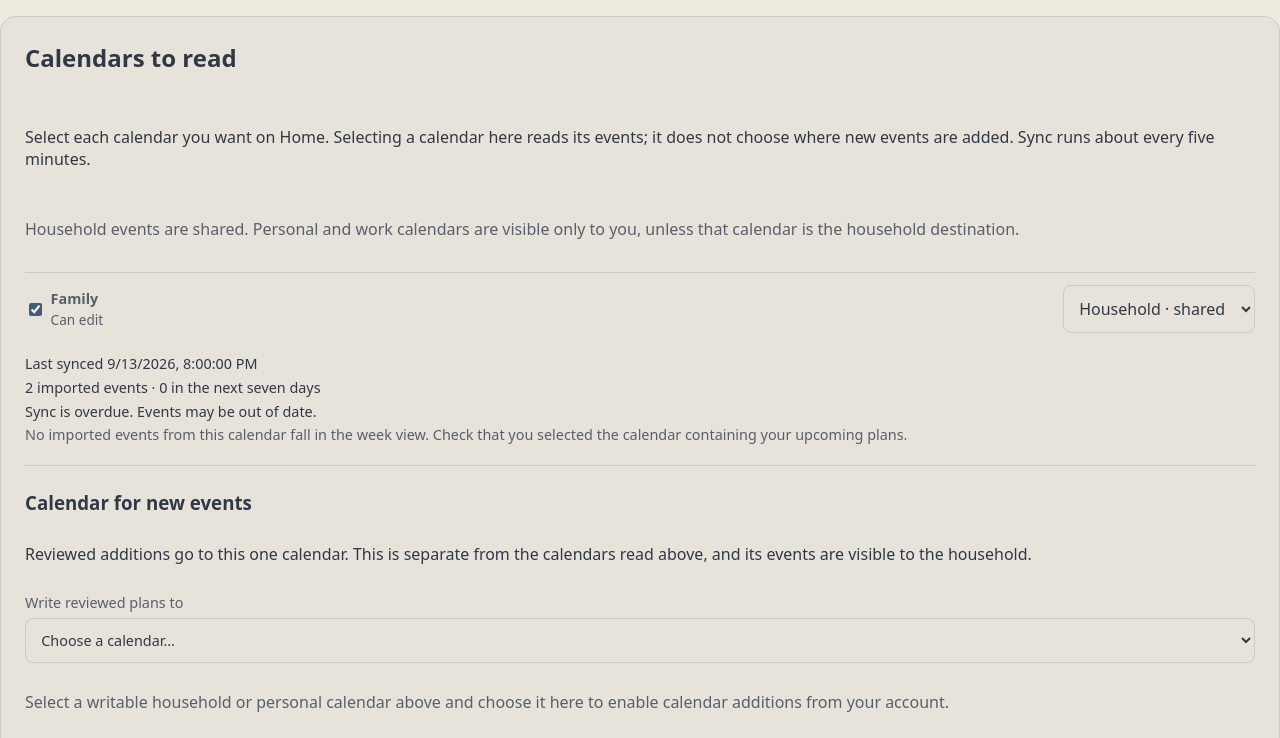
Test: explains empty calendars and refreshes status without discarding unsaved choices
Check: the text "2 imported events · 0 in the next seven days" is shown, box [25, 378, 321, 397]
Check: the text "Sync is overdue. Events may be out of date." is shown, box [25, 402, 317, 421]
Click the checkbox labelled "Family Can edit". click: (36,309)
box: [29, 303, 42, 316]
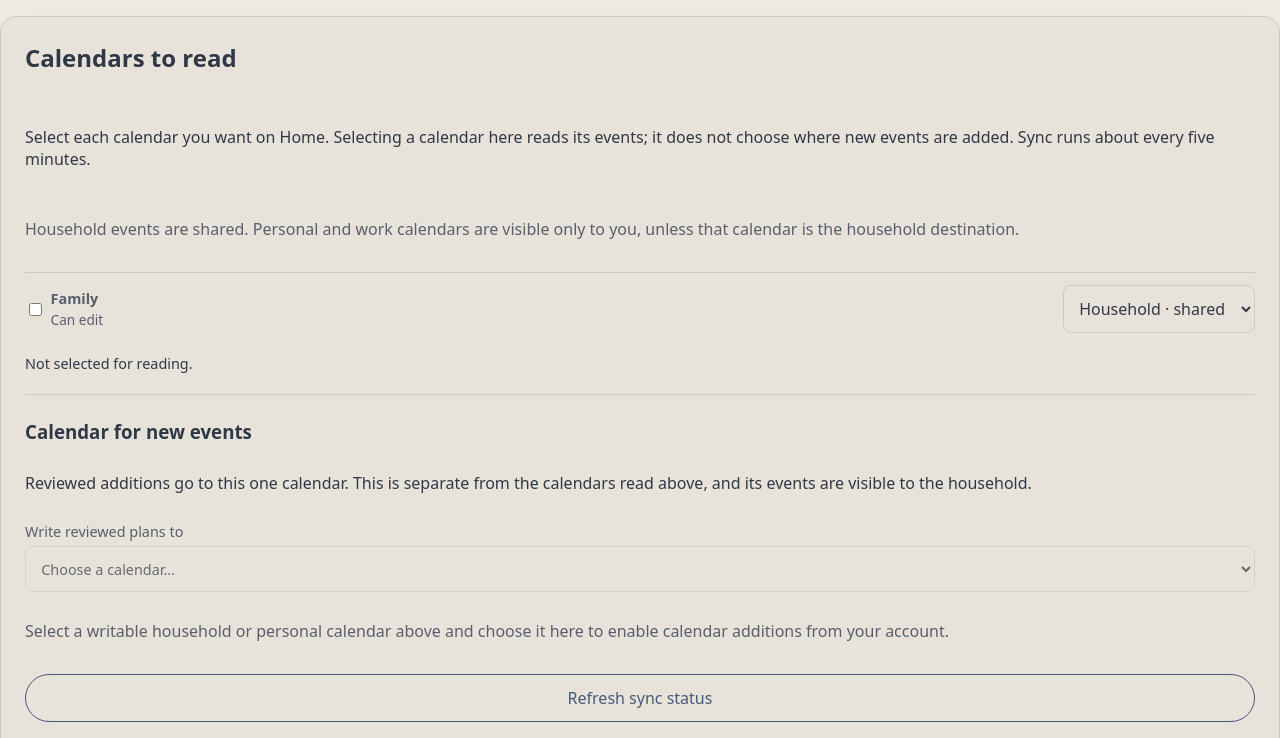
Click the button "Refresh sync status". click: (640,698)
box: [25, 674, 1255, 722]
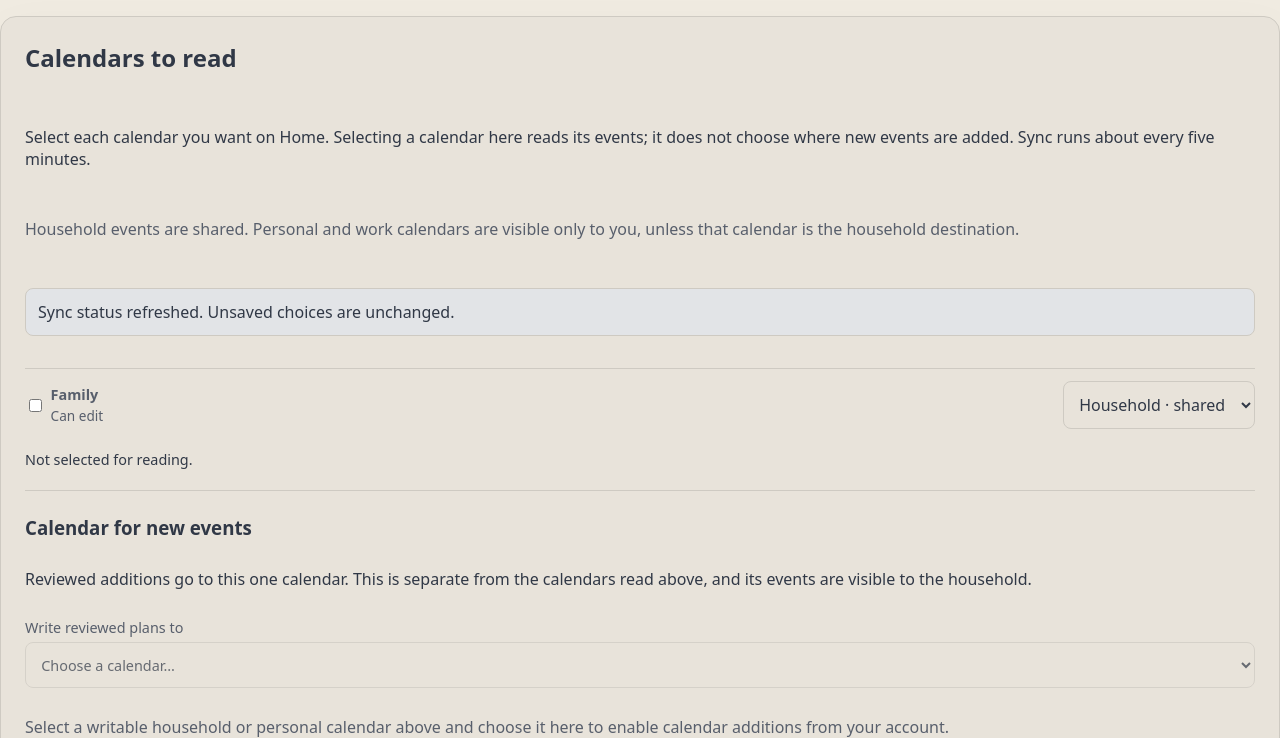
Check: the checkbox labelled "Family Can edit" is not checked, box [29, 399, 42, 412]
Check: the text "Sync status refreshed. Unsaved choices are unchanged." is shown, box [25, 288, 1255, 336]
